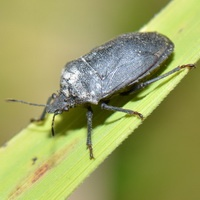insect: (0, 105, 141, 199), (109, 68, 187, 116), (151, 38, 199, 77)
